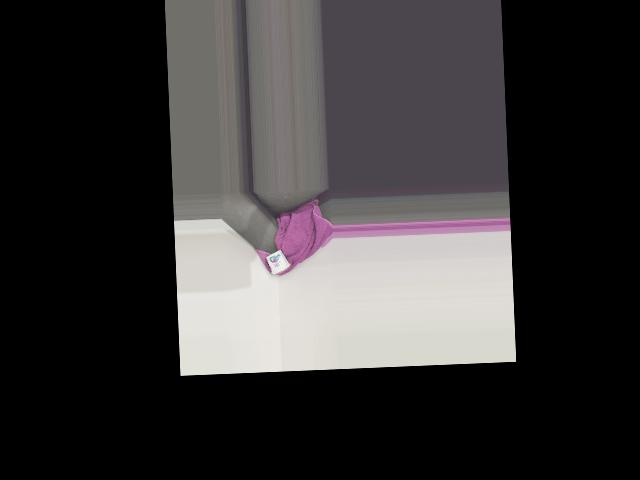cotage: (266, 250, 290, 275)
